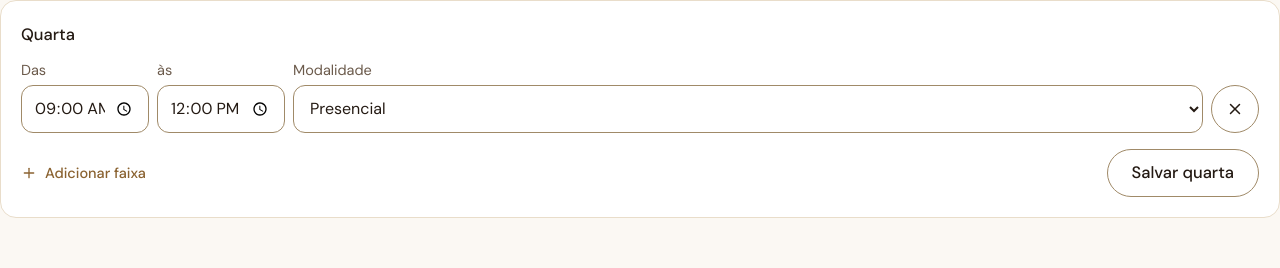
Test: <EditorDia> › salvar envia o dia e as faixas serializadas; mostra o resultado
The width and height of the screenshot is (1280, 268).
Click the button "Salvar quarta": coordinates (1183, 173) [1106,149,1259,197]
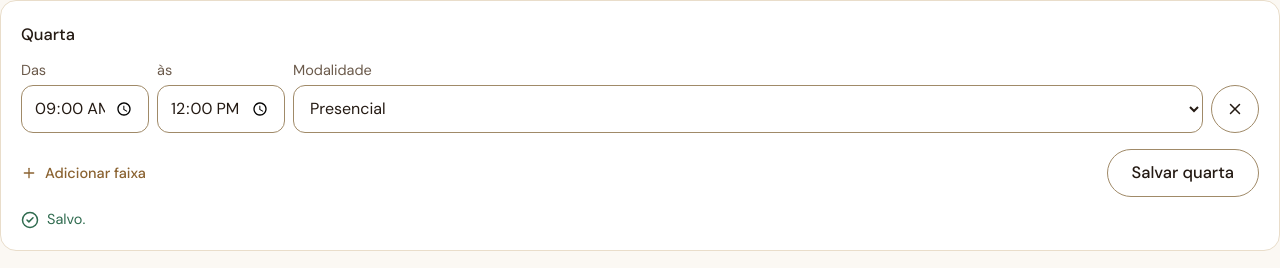
Expected: the message reads "Salvo.", [47,210,85,228]
